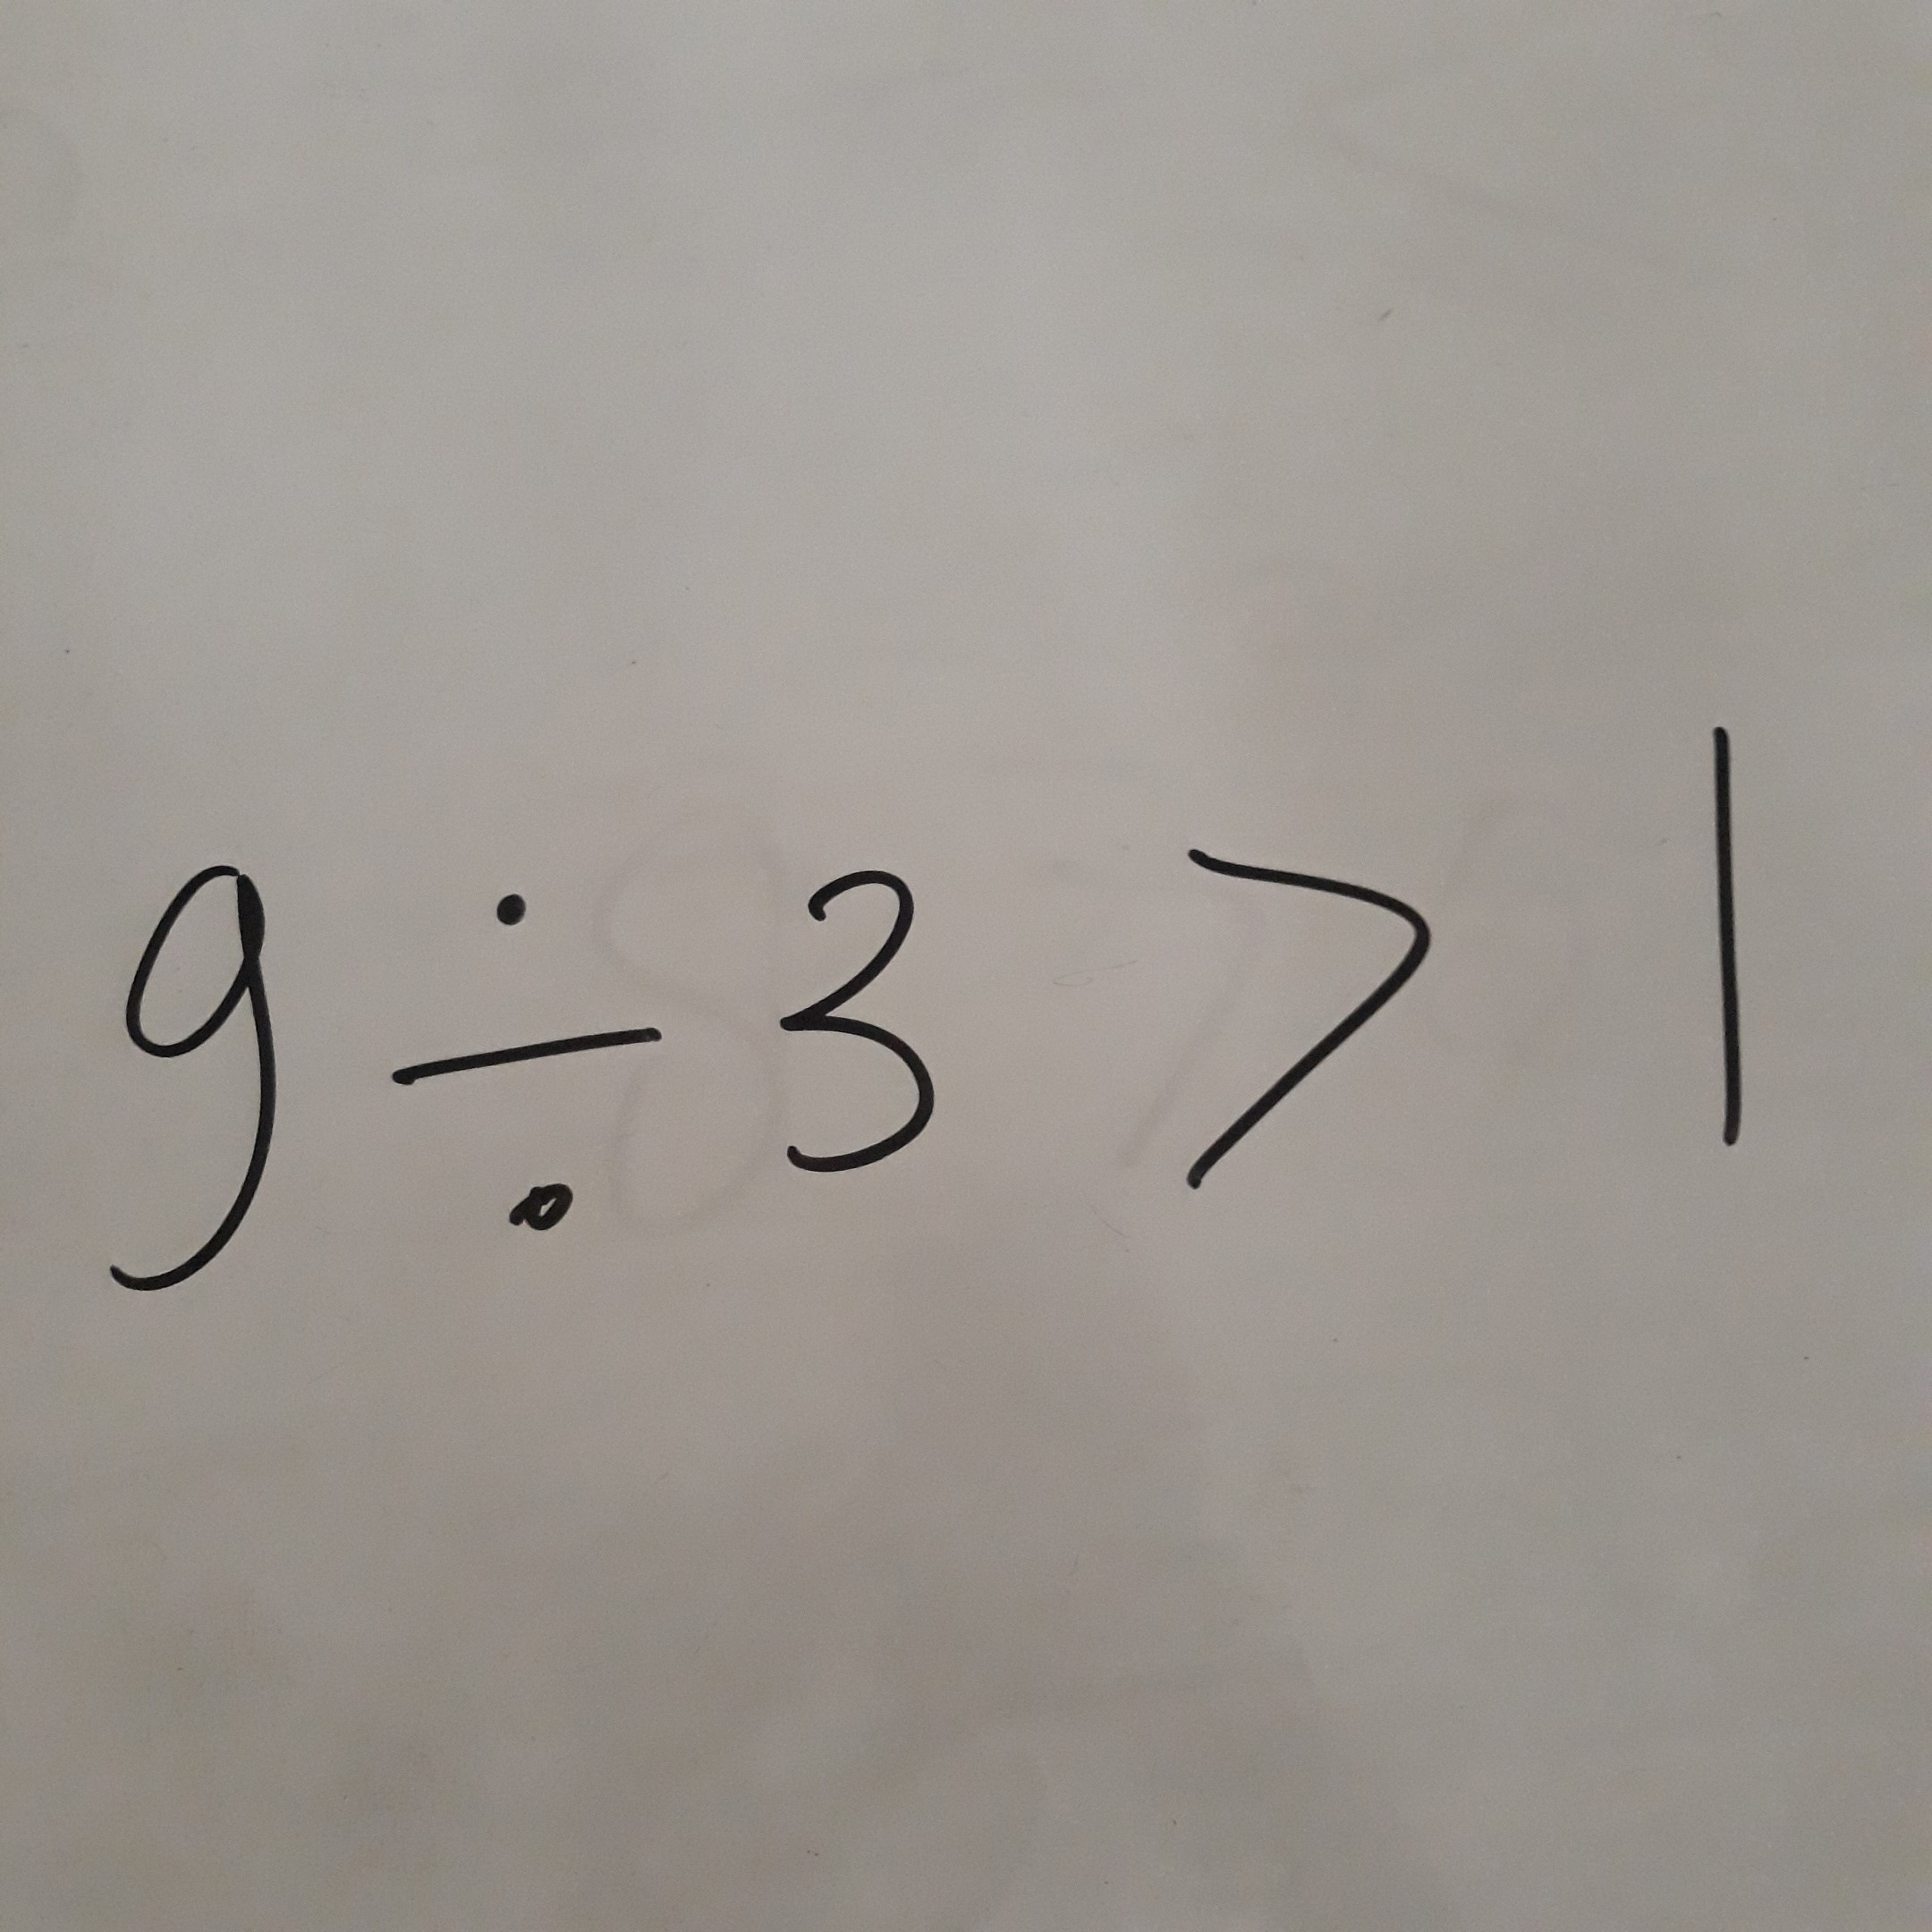div: (363, 826, 691, 1255)
morethan: (1142, 816, 1469, 1208)
num1: (1635, 699, 1834, 1171)
num3: (741, 816, 973, 1207)
num9: (55, 819, 326, 1334)
